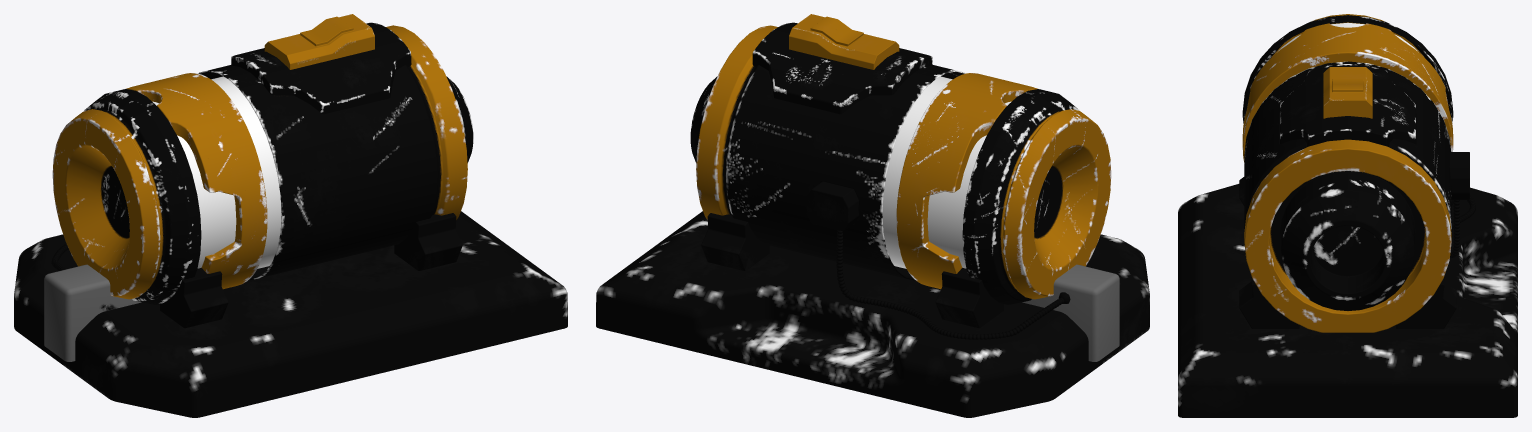
The model's file is Generator.gltf.
3 views of the same model, side by side, from view 1: azimuth 30°, elevation 25°; view 2: azimuth 150°, elevation 25°; view 3: azimuth 270°, elevation 25° (orthographic). The views are drawn at different scales.
Parts seen in each view (by area): view 1: Generator_Baked; view 2: Generator_Baked; view 3: Generator_Baked.
Part boxes in pixels (x1,y1,x2,y2): Generator_Baked: (14,14,567,417); Generator_Baked: (596,14,1149,417); Generator_Baked: (1178,14,1517,417).
Size of the model in its own units: 1.9 by 1.16 by 1.36.
Materials: 1 (1 with a texture image).
